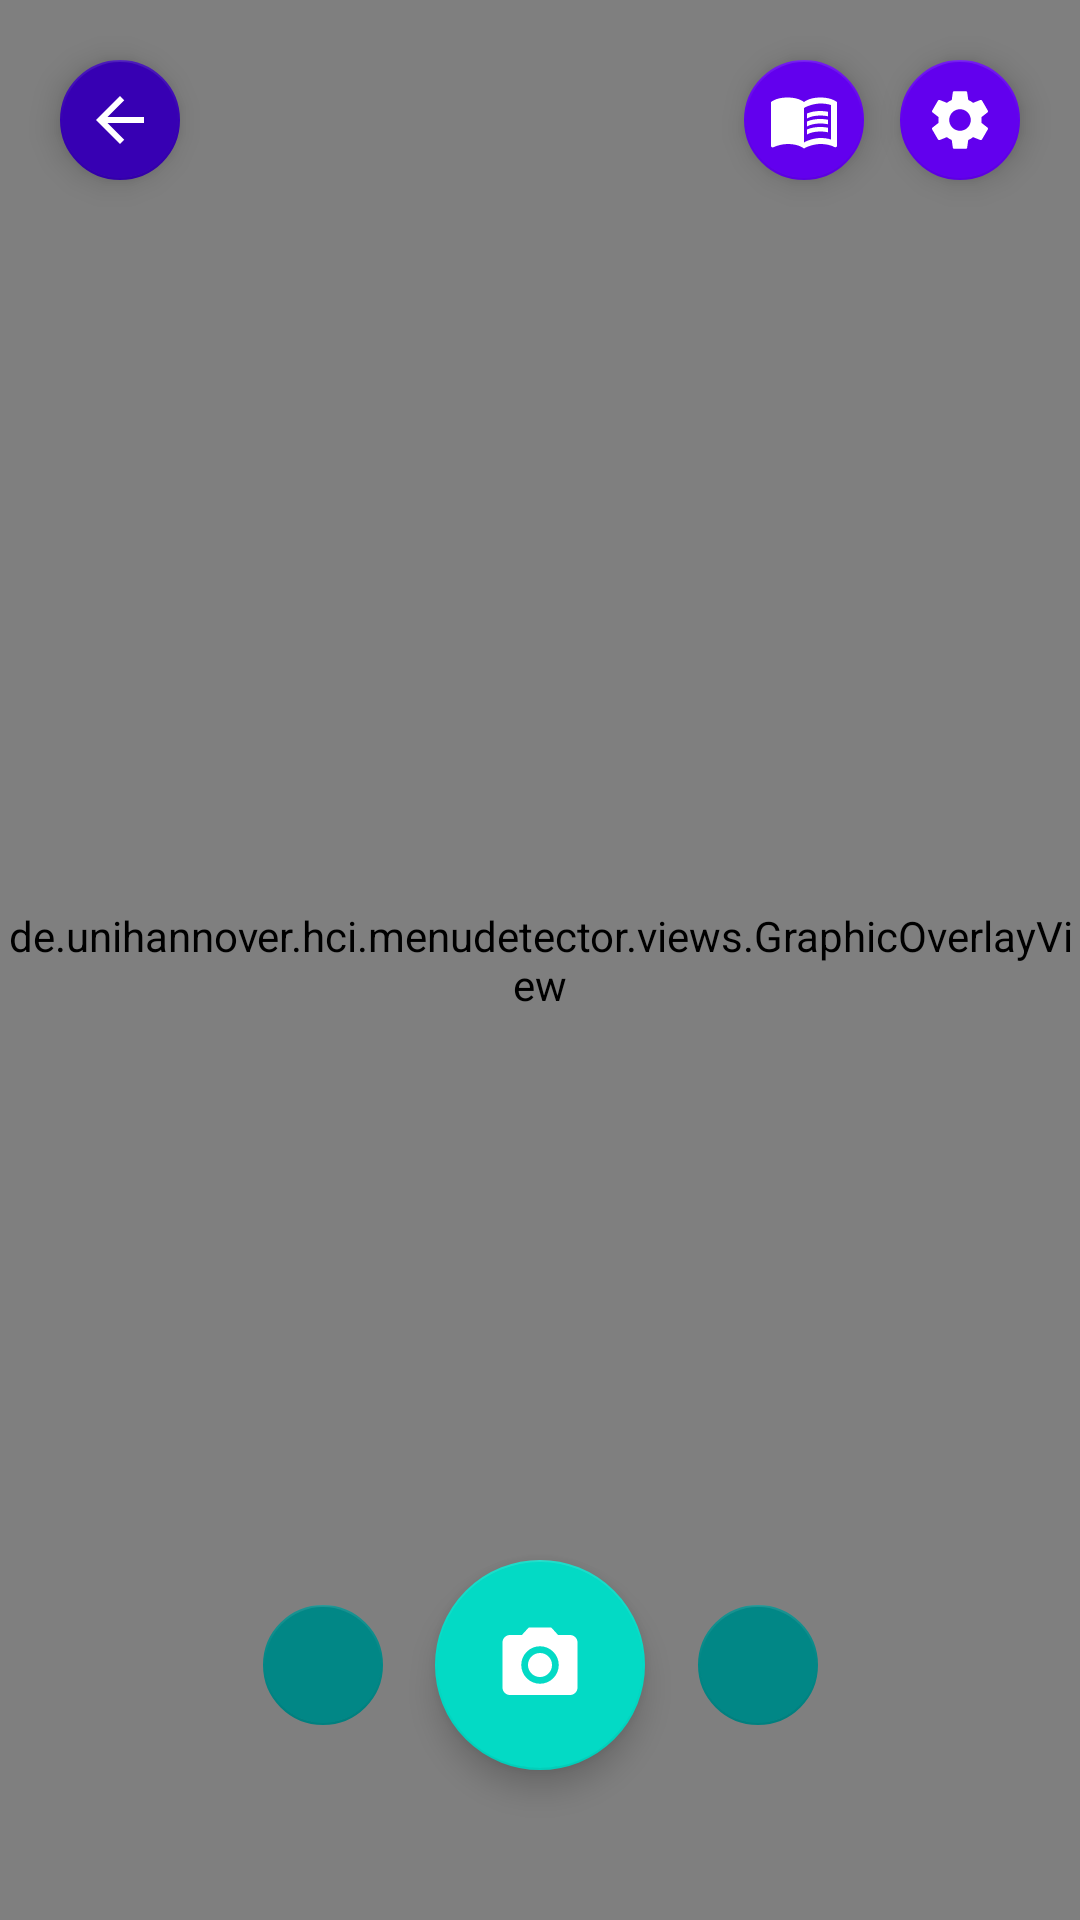

Named icons in this screenshot (1080*1920) and their bounding boxes, (x1, y1, x2, y2):
back: (60, 60, 180, 180)
settings: (900, 60, 1020, 180)
